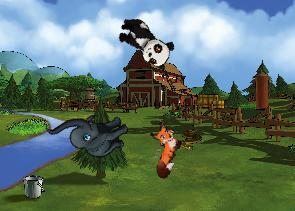elephant: (46, 91, 135, 176)
fox: (136, 119, 188, 180)
panda: (111, 12, 178, 72)
